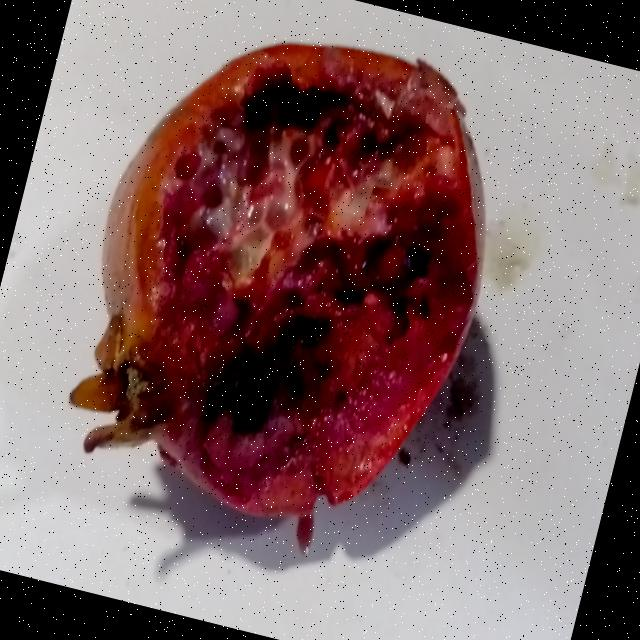Rotten: (28, 0, 535, 579)
